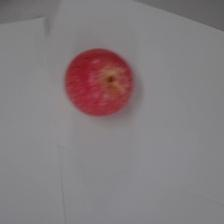red: (63, 46, 135, 118)
